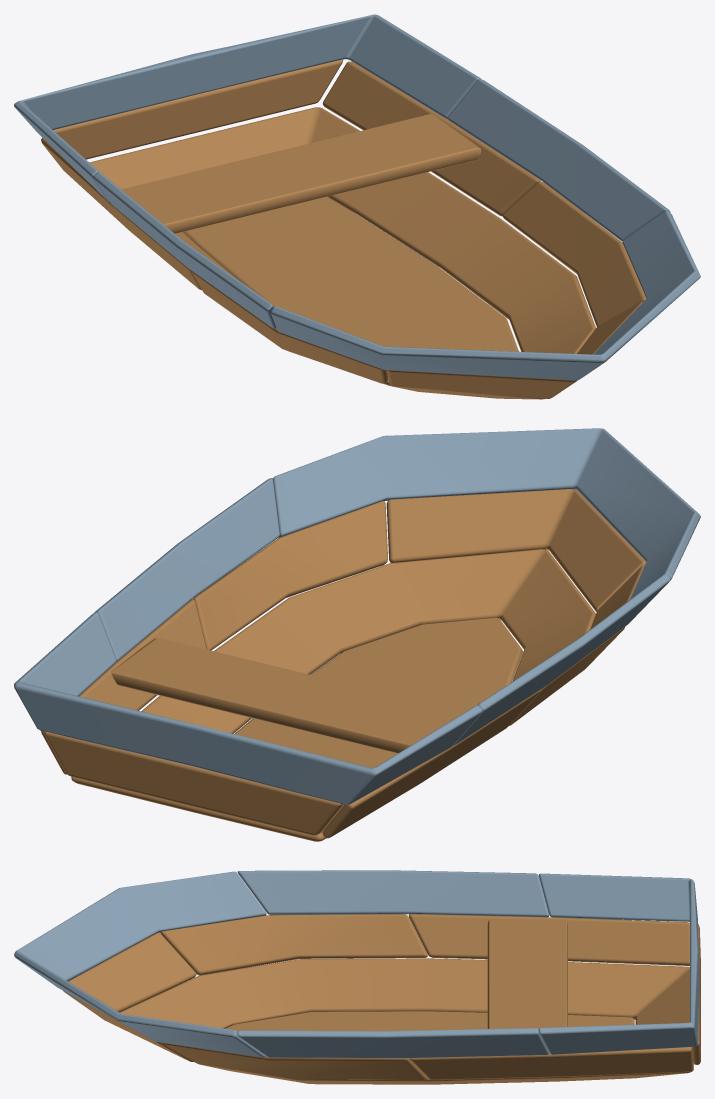
Rendered from boat_embedded.gltf.
3 views of the same model, one above another, from view 1: azimuth 30°, elevation 25°; view 2: azimuth 150°, elevation 25°; view 3: azimuth 270°, elevation 25° (orthographic). The views are drawn at different scales.
Visible parts, largest first — view 1: bloat, Plane.003, Plane.002, Plane.001, Plane.004; view 2: bloat, Plane.003, Plane.002, Plane.004, Plane.001; view 3: bloat, Plane.003, Plane.002, Plane.004, Plane.001.
Boxes of the visible parts, x1,y1,x2,y2 form: bloat: [14, 14, 700, 380]; Plane.003: [41, 59, 646, 398]; Plane.002: [89, 107, 595, 399]; Plane.001: [183, 196, 518, 371]; Plane.004: [121, 114, 481, 233]; bloat: [14, 428, 700, 804]; Plane.003: [41, 489, 645, 838]; Plane.002: [71, 549, 595, 841]; Plane.004: [111, 638, 464, 753]; Plane.001: [235, 617, 522, 767]; bloat: [14, 870, 699, 1058]; Plane.003: [63, 914, 700, 1079]; Plane.002: [119, 958, 693, 1084]; Plane.004: [487, 919, 567, 1029]; Plane.001: [225, 1011, 634, 1031].
Size of the model in its own units: 2.98 by 0.8485 by 5.24.
